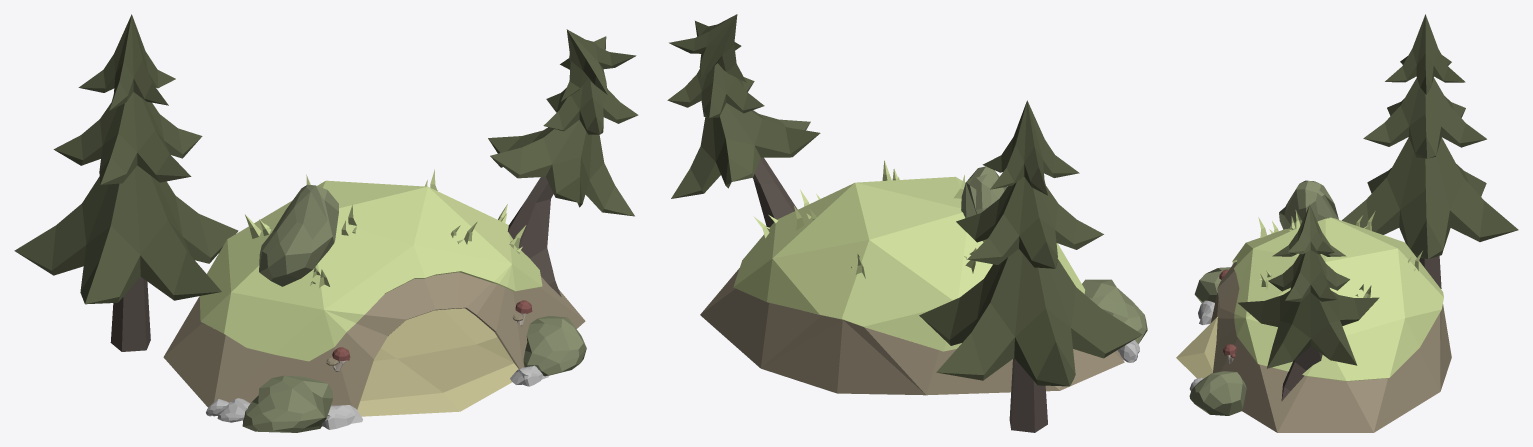
File: ChipDwelling.fbx
3 renders of one model, left to right at view 1: azimuth 30°, elevation 25°; view 2: azimuth 150°, elevation 25°; view 3: azimuth 270°, elevation 25°, orthographic. The views are drawn at different scales.
Visible parts, largest first — view 1: ChipDwelling; view 2: ChipDwelling; view 3: ChipDwelling.
Boxes of the visible parts, box(x1,y1,x2,y2) form: ChipDwelling: box(14, 14, 638, 432); ChipDwelling: box(667, 14, 1147, 432); ChipDwelling: box(1176, 14, 1518, 432).
Bounding box in the file's own units: 30.53 × 19.18 × 21.81.
